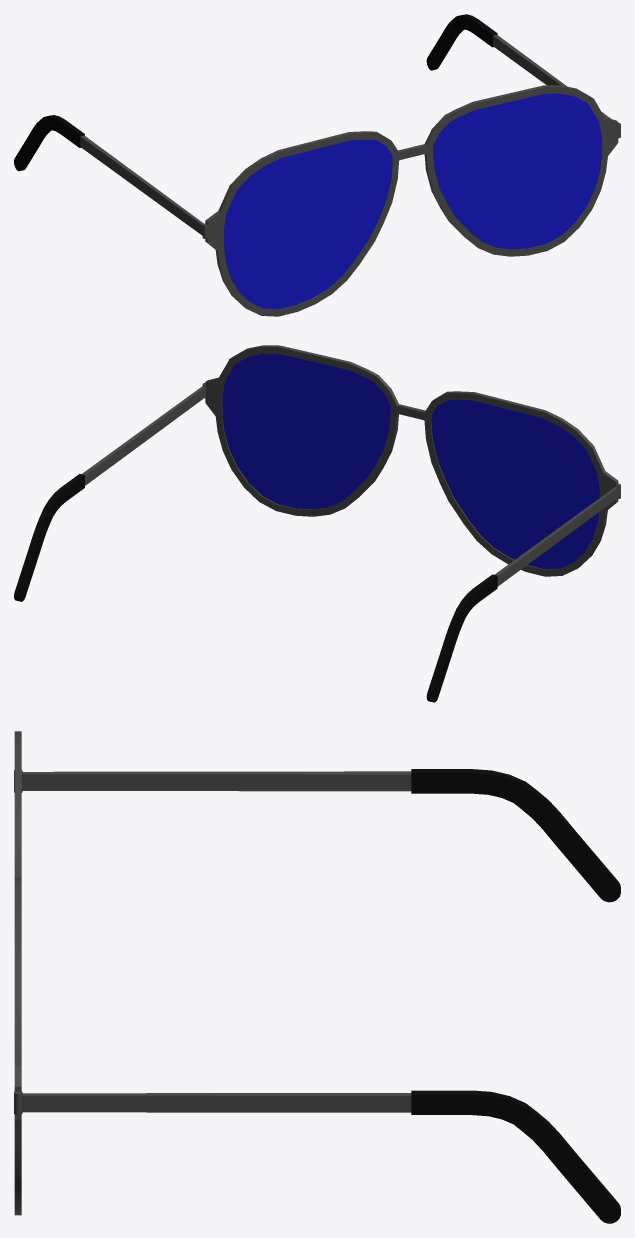
The model's file is glasses2.001.obj.
3 renders of one model, top to bottom at view 1: azimuth 30°, elevation 25°; view 2: azimuth 150°, elevation 25°; view 3: azimuth 270°, elevation 25°, orthographic. The views are drawn at different scales.
Visible parts, largest first — view 1: glasses2.001_glasses2.001_Glass, glasses2.001_glasses2.001_Gray, glasses2.001_glasses2.001_Material.002; view 2: glasses2.001_glasses2.001_Glass, glasses2.001_glasses2.001_Gray, glasses2.001_glasses2.001_Material.002; view 3: glasses2.001_glasses2.001_Gray, glasses2.001_glasses2.001_Material.002.
Boxes of the visible parts, x1,y1,x2,y2 form: glasses2.001_glasses2.001_Glass: (224, 93, 601, 309); glasses2.001_glasses2.001_Gray: (80, 34, 620, 316); glasses2.001_glasses2.001_Material.002: (14, 14, 497, 171); glasses2.001_glasses2.001_Glass: (222, 353, 599, 569); glasses2.001_glasses2.001_Gray: (82, 345, 620, 586); glasses2.001_glasses2.001_Material.002: (14, 474, 497, 702); glasses2.001_glasses2.001_Gray: (14, 731, 411, 1215); glasses2.001_glasses2.001_Material.002: (411, 769, 620, 1223).
Size of the model in its own units: 2.06 by 0.7769 by 1.62.
